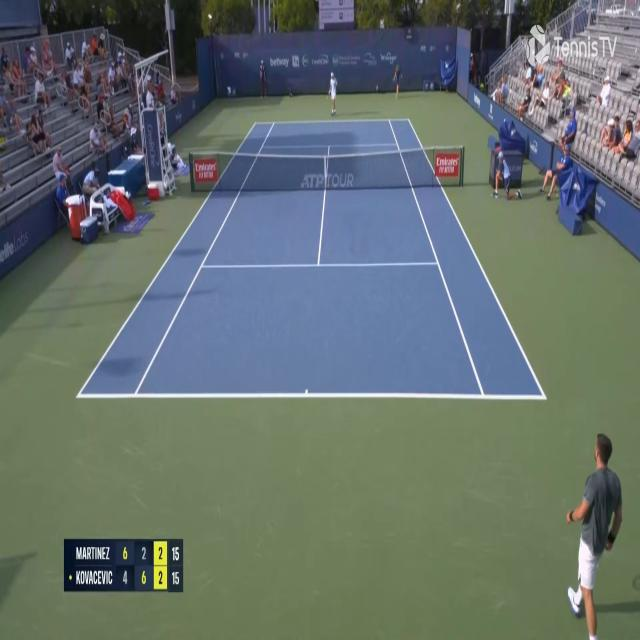tennis-player: (564, 428, 625, 636), (328, 70, 338, 116)
